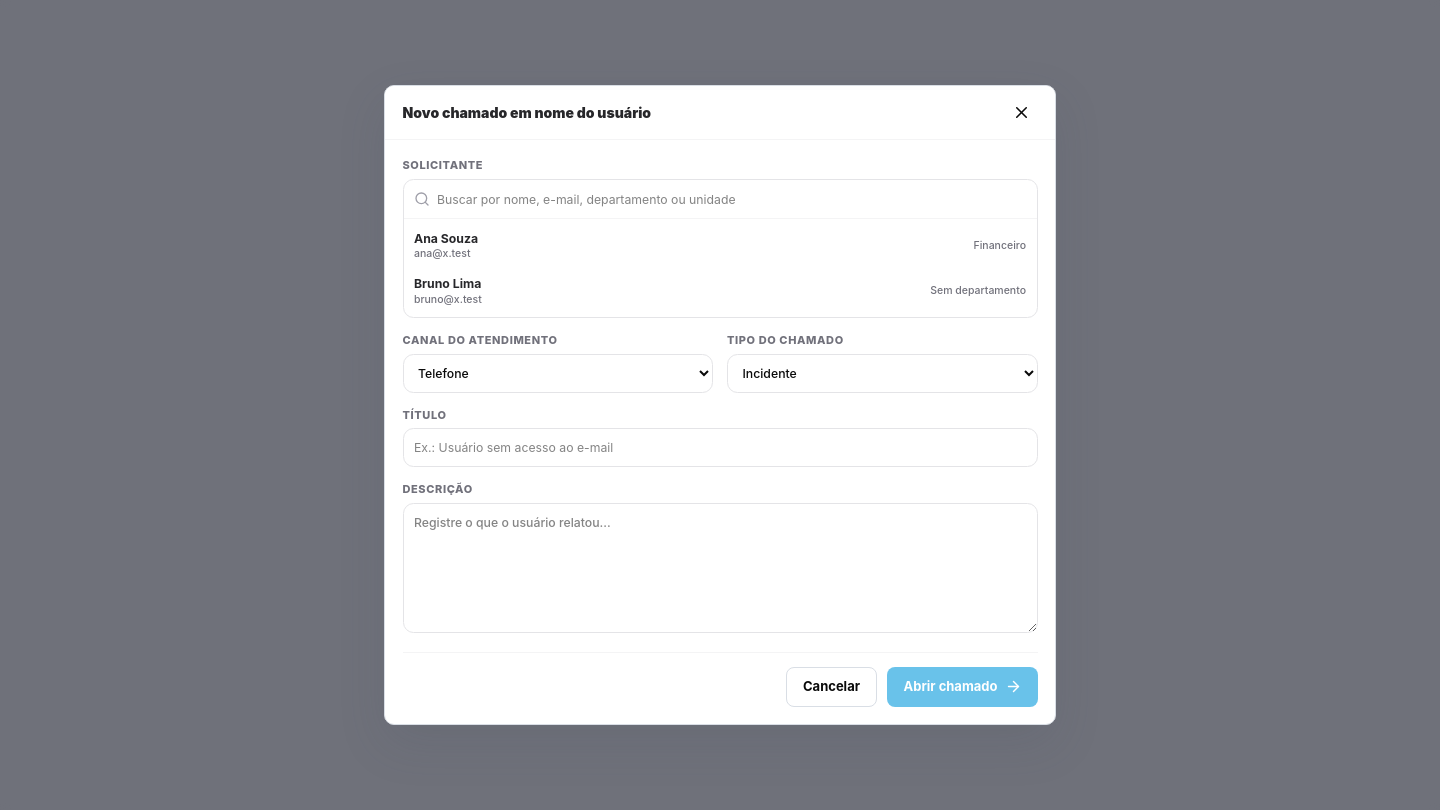
Test: usuário sem departamento mostra o aviso e bloqueia o envio
Click the option "Bruno Lima bruno@x.test Sem departamento" at point(448, 284), box 404,268 -> 1036,314
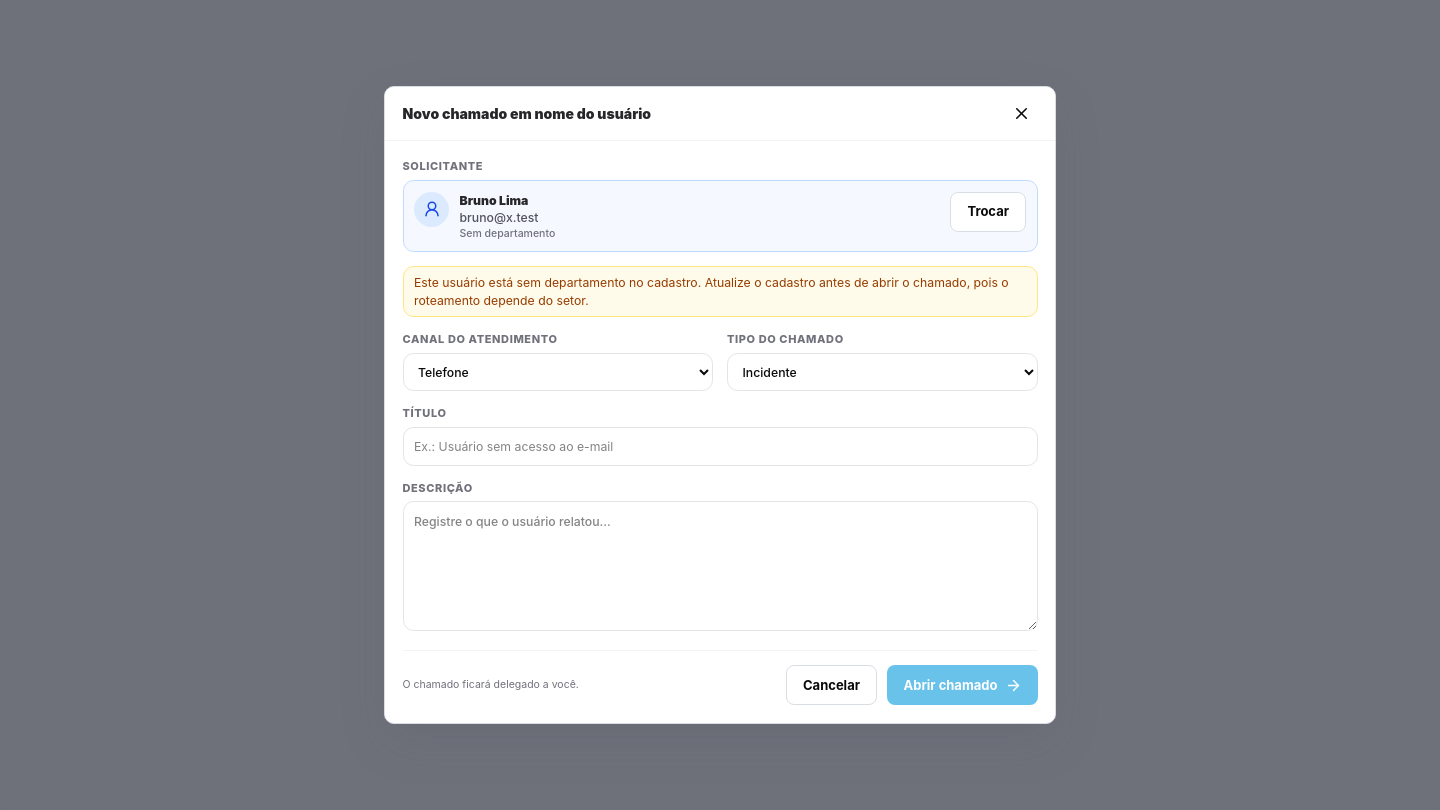
Check: the button "Abrir chamado" is disabled, box 888,665 -> 1038,705
Check: the message shows "sem departamento", box 414,275 -> 1009,308
